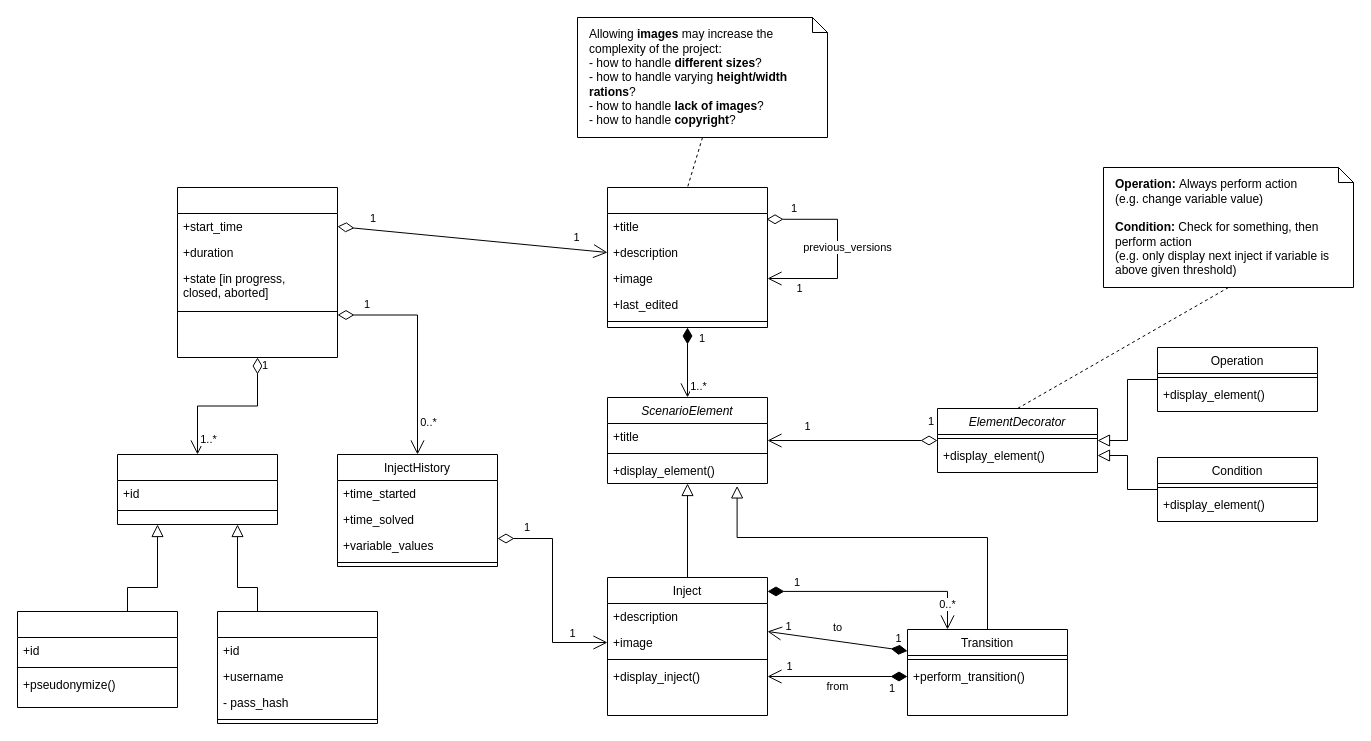
Some shapes in this 1371 by 741 pixel diagram are drawn without their labels. Each missing label, with the box of its shape:
AuthenticatedUser: (216, 610, 378, 724)
Scenario: (606, 186, 768, 328)
ScenarioInstance: (176, 186, 338, 358)
UnauthenticatedUser: (16, 610, 178, 708)
User: (116, 454, 278, 524)
